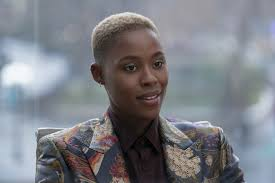person: (90, 13, 169, 122)
